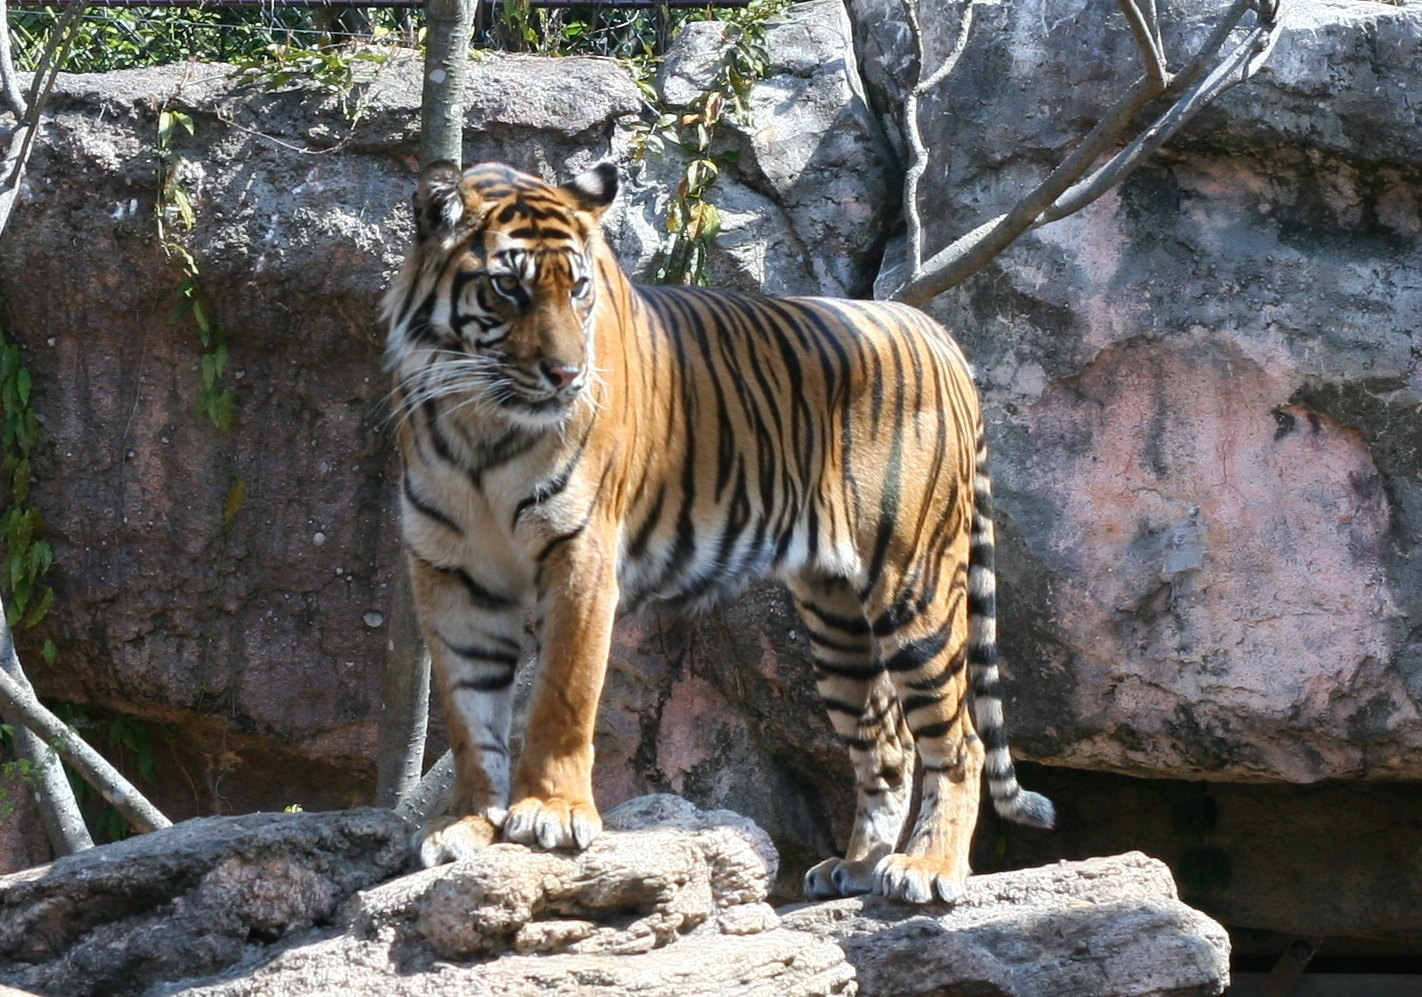tiger: (358, 160, 1069, 933)
